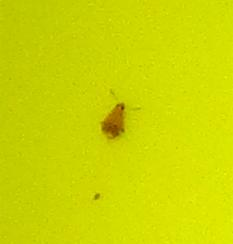Coleoptera: (100, 100, 133, 144)
